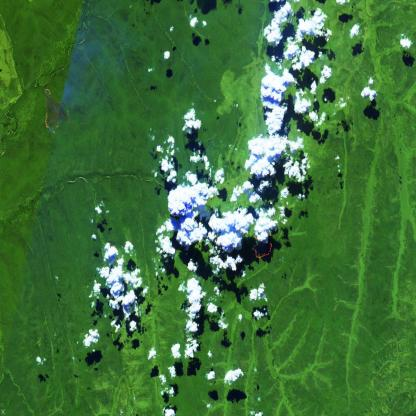fire: (42, 87, 64, 137), (253, 228, 274, 262)
